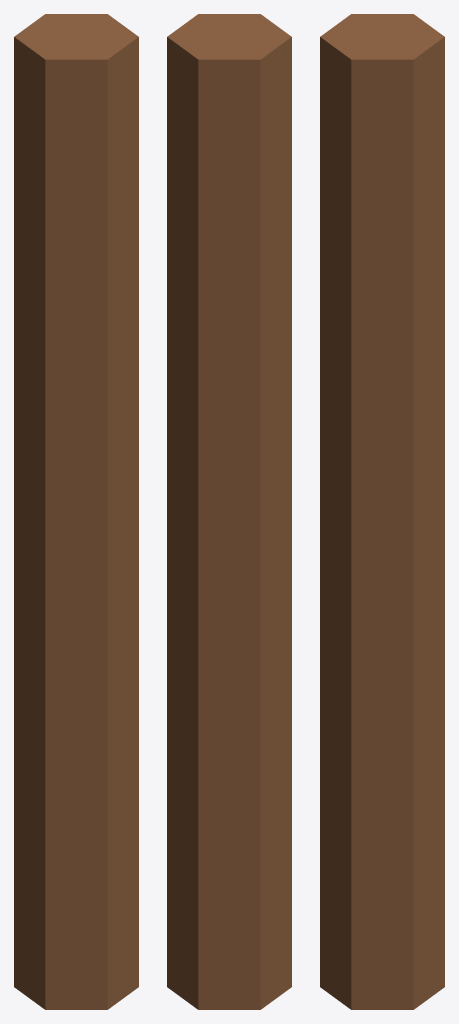
The model's file is tree-summer-trunk-012.glb.
The picture shows the model from 3 angles, left to right: view 1: azimuth 30°, elevation 25°; view 2: azimuth 150°, elevation 25°; view 3: azimuth 330°, elevation 25°; orthographic projection.
Visible parts, largest first — view 1: Circle.011_229; view 2: Circle.011_229; view 3: Circle.011_229.
Boxes of the visible parts, x1,y1,x2,y2 form: Circle.011_229: (14,14,138,1009); Circle.011_229: (167,14,291,1009); Circle.011_229: (320,14,444,1009).
Size of the model in its own units: 0.1288 by 1.25 by 0.1487.
